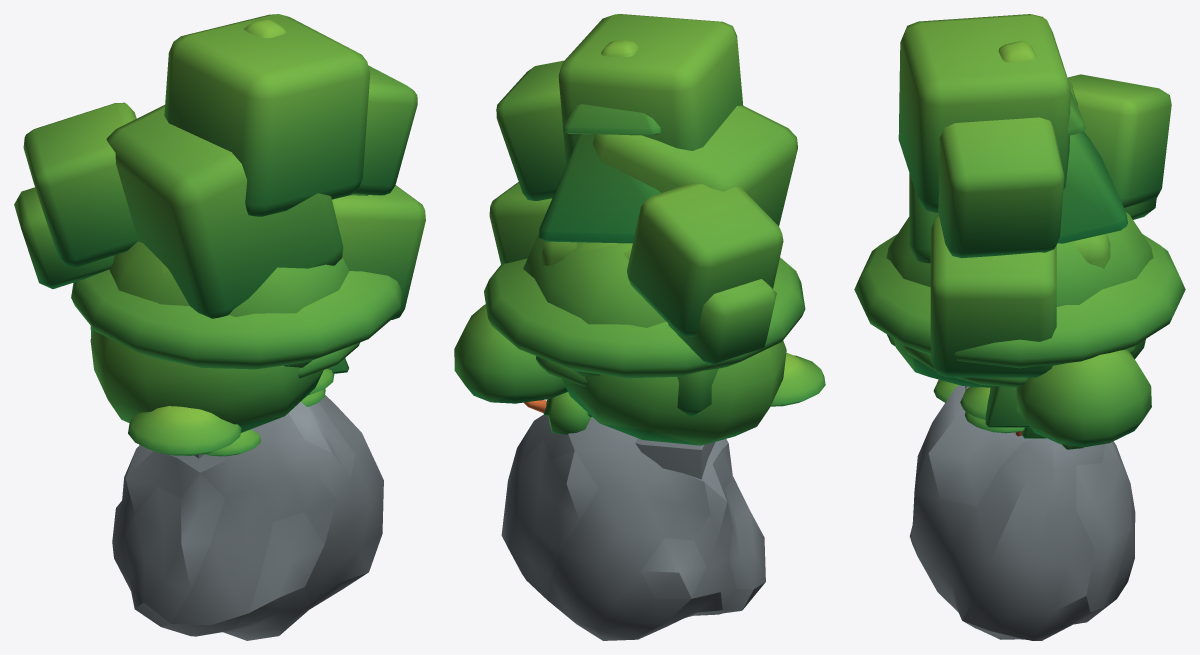
The model's file is kaykit-nature.glb.
The picture shows the model from 3 angles, left to right: view 1: azimuth 30°, elevation 25°; view 2: azimuth 150°, elevation 25°; view 3: azimuth 270°, elevation 25°; orthographic projection. The views are drawn at different scales.
Visible parts, largest first — view 1: Tree_2_C_Color1, Rock_3_M_Color1, Tree_2_B_Color1, Tree_3_B_Color1, Tree_1_A_Color1, Tree_1_B_Color1, Tree_3_A_Color1, Tree_4_B_Color1; view 2: Tree_2_C_Color1, Rock_3_M_Color1, Tree_3_B_Color1, Tree_2_B_Color1, Tree_1_B_Color1, Tree_1_A_Color1, Tree_4_B_Color1, Tree_2_A_Color1, Rock_1_G_Color1, Tree_3_A_Color1; view 3: Tree_2_C_Color1, Rock_3_M_Color1, Tree_3_B_Color1, Tree_1_B_Color1, Tree_2_B_Color1, Tree_4_B_Color1, Tree_3_A_Color1, Tree_1_A_Color1, Tree_2_A_Color1.
Boxes of the visible parts, x1,y1,x2,y2 form: Tree_2_C_Color1: (14,14,417,288); Rock_3_M_Color1: (112,395,383,640); Tree_2_B_Color1: (106,105,425,319); Tree_3_B_Color1: (71,269,402,455); Tree_1_A_Color1: (90,330,323,432); Tree_1_B_Color1: (109,241,349,367); Tree_3_A_Color1: (204,342,360,456); Tree_4_B_Color1: (243,18,348,373); Tree_2_C_Color1: (496,14,783,364); Rock_3_M_Color1: (501,414,765,640); Tree_3_B_Color1: (484,257,825,406); Tree_2_B_Color1: (489,105,797,265); Tree_1_B_Color1: (454,234,665,412); Tree_1_A_Color1: (548,340,786,445); Tree_4_B_Color1: (539,40,660,243); Tree_2_A_Color1: (541,241,718,417); Rock_1_G_Color1: (635,438,715,479); Tree_3_A_Color1: (536,356,587,386); Tree_2_C_Color1: (898,14,1171,258); Rock_3_M_Color1: (909,385,1135,640); Tree_3_B_Color1: (854,234,1185,433); Tree_1_B_Color1: (886,212,1153,447); Tree_2_B_Color1: (909,81,1077,377); Tree_4_B_Color1: (985,41,1127,436); Tree_3_A_Color1: (904,345,1135,419); Tree_1_A_Color1: (894,339,1145,449); Tree_2_A_Color1: (1074,233,1110,269).
Bounding box in the file's own units: 4.73 × 8.2 × 4.13.
Materials: 1 (1 with a texture image).
